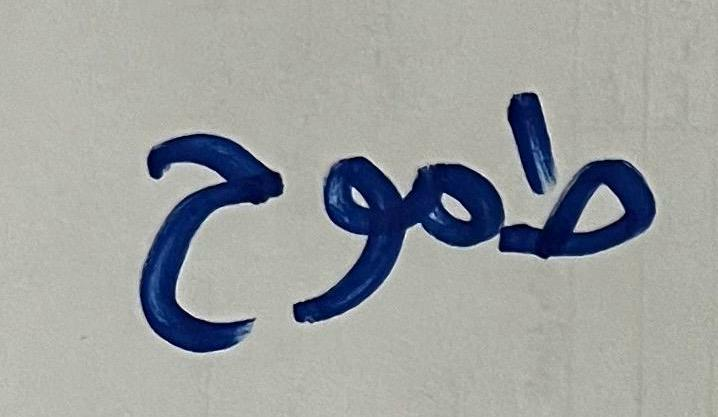hah: (123, 74, 289, 371)
meem: (410, 127, 503, 323)
tah: (506, 50, 672, 295)
waw: (292, 118, 407, 340)
